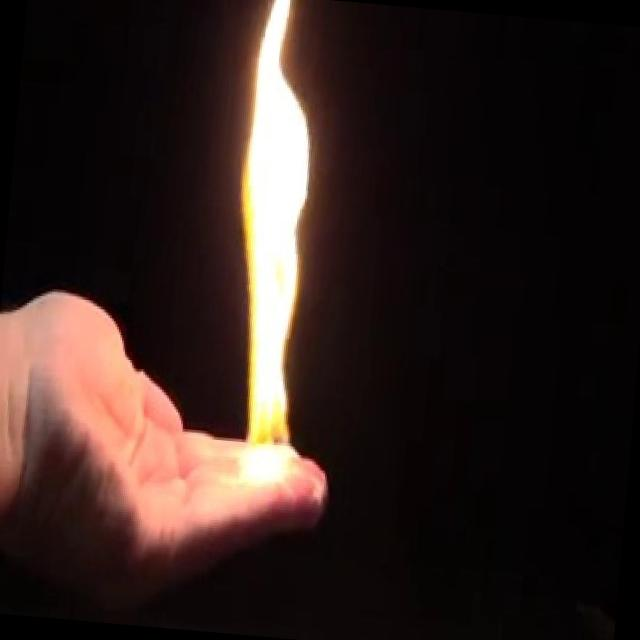Fire: (199, 0, 340, 498)
